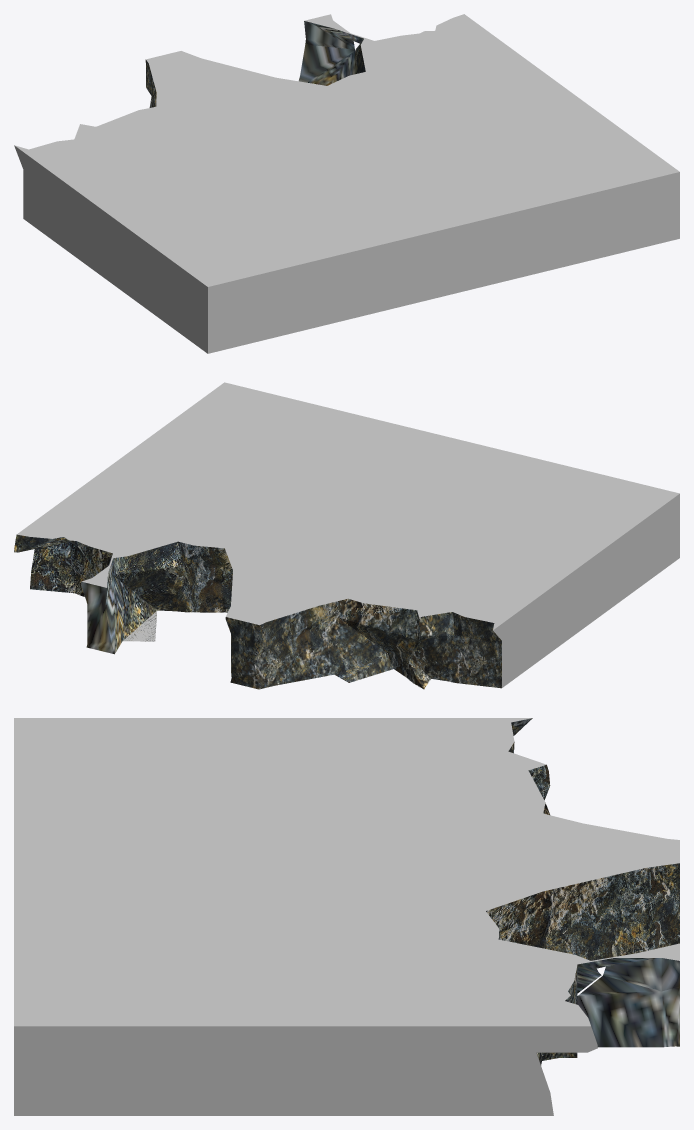
File: Stone end.fbx
3 renders of one model, top to bottom at view 1: azimuth 30°, elevation 25°; view 2: azimuth 150°, elevation 25°; view 3: azimuth 270°, elevation 25°, orthographic. The views are drawn at different scales.
Visible parts, largest first — view 1: Stone end; view 2: Stone end; view 3: Stone end.
Boxes of the visible parts, x1=… form: Stone end: x1=14, y1=14, x2=679, y2=353; Stone end: x1=14, y1=382, x2=679, y2=689; Stone end: x1=14, y1=718, x2=679, y2=1115.
Bounding box in the file's own units: 184 × 24.84 × 168.
